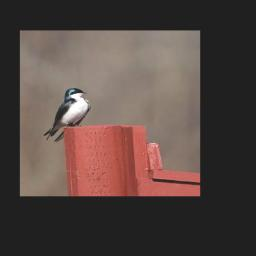Swallow: (43, 87, 92, 141)
